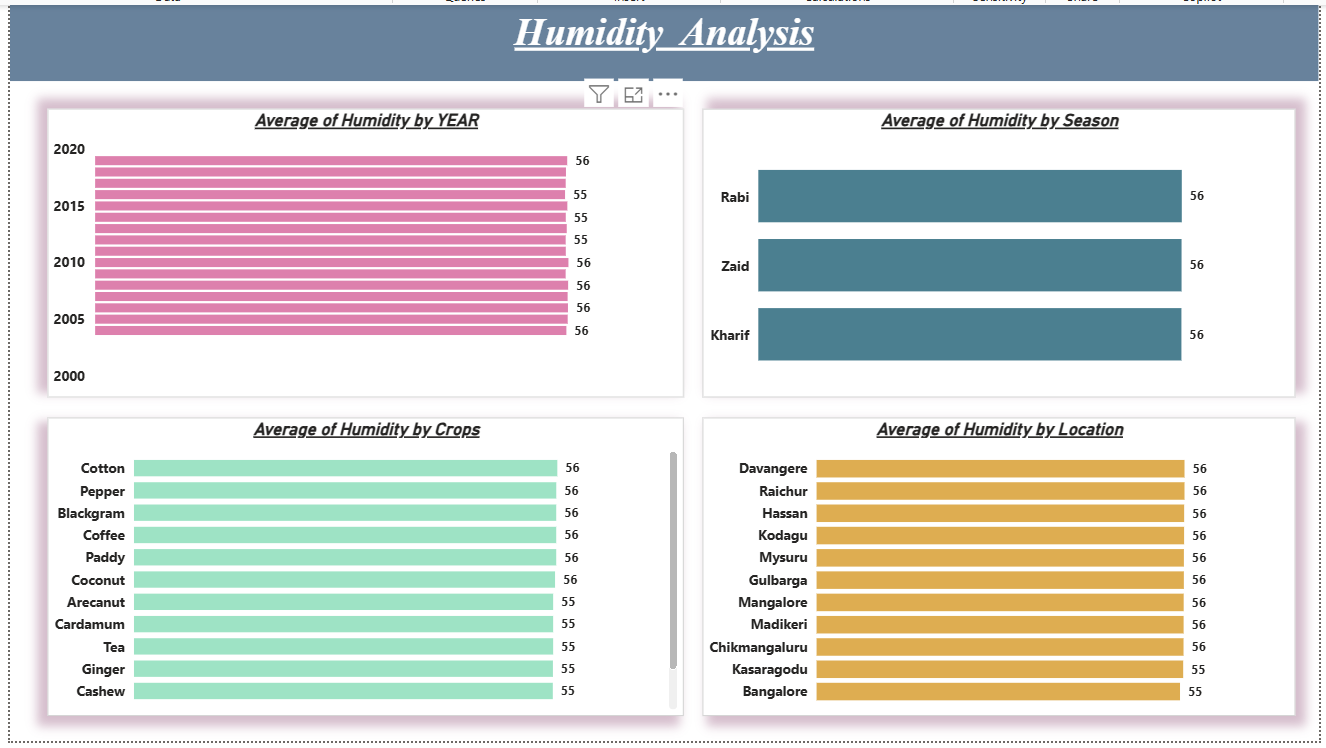

The dashboard page shown, as its layout file describes it:
{"tool":"powerbi","page":{"name":"Humidity Analysis","canvas":[1280,720],"ordinal":2},"visuals":[{"type":"textbox","box":[9.6,0,1270.7,74.1],"z":0},{"type":"textbox","box":[0,0,1280.3,74.1],"z":1000},{"type":"barChart","title":"Average of Humidity  by YEAR","fields":{"Category":["AGRICULTURE.YEAR"],"Y":["Avg(AGRICULTURE.HUMIDITY)"]},"box":[36.9,101,622.4,282.5],"z":2000},{"type":"barChart","title":"Average of Humidity by Season","fields":{"Category":["AGRICULTURE.SEASON"],"Y":["Avg(AGRICULTURE.HUMIDITY)"]},"box":[677,101,580.1,282.5],"z":3000},{"type":"barChart","title":"Average of Humidity by Crops","fields":{"Category":["AGRICULTURE.CROPS"],"Y":["Avg(AGRICULTURE.HUMIDITY)"]},"box":[36.9,404,622.4,292.1],"z":4000},{"type":"barChart","title":"Average of Humidity by Location","fields":{"Category":["AGRICULTURE.LOCATION"],"Y":["Avg(AGRICULTURE.HUMIDITY)"]},"box":[677,404,580.1,292.1],"z":5000}]}

Visuals, with their boxes on the page's 1280x720 design canvas (x1, y1, x2, y2). These are canvas units, not pixel positions in the 1326x748 screenshot, which may show the page scaled, cropped or inside an application window:
textbox: select_region(10, 0, 1280, 74)
textbox: select_region(0, 0, 1280, 74)
"Average of Humidity  by YEAR" barChart: select_region(37, 101, 659, 384)
"Average of Humidity by Season" barChart: select_region(677, 101, 1257, 384)
"Average of Humidity by Crops" barChart: select_region(37, 404, 659, 696)
"Average of Humidity by Location" barChart: select_region(677, 404, 1257, 696)
